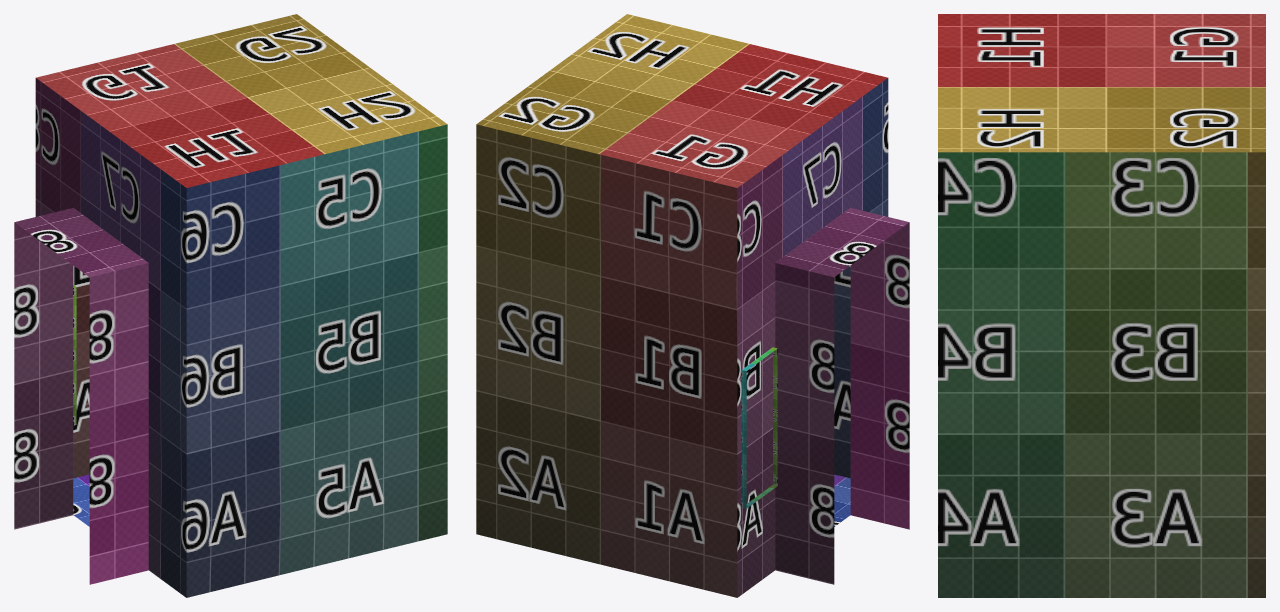
Rendered from TH_elevator.dae.
3 renders of one model, left to right at view 1: azimuth 30°, elevation 25°; view 2: azimuth 150°, elevation 25°; view 3: azimuth 270°, elevation 25°, orthographic. The views are drawn at different scales.
Parts seen in each view (by area): view 1: Cube; view 2: Cube; view 3: Cube.
Part boxes in pixels (<box>): Cube: <box>14,14,447,597</box>; Cube: <box>476,14,909,597</box>; Cube: <box>938,14,1265,597</box>.
Bounding box in the file's own units: 2.45 × 2 × 3.
Materials: 1 (1 with a texture image).
